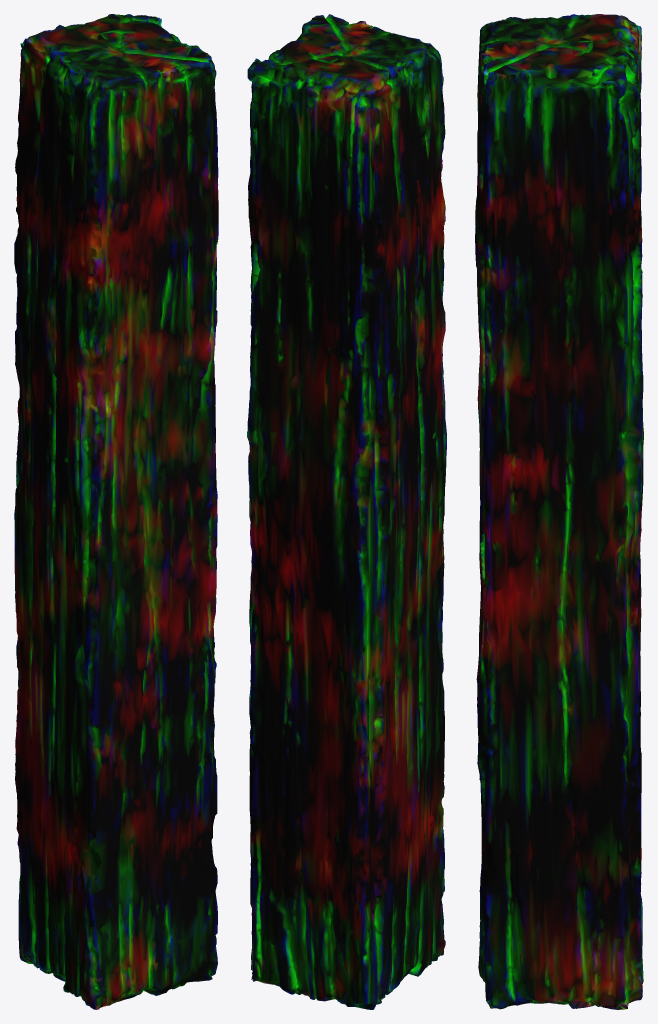
Rendered from SM_Wood_Pillar_01.fbx.
3 renders of one model, left to right at view 1: azimuth 30°, elevation 25°; view 2: azimuth 150°, elevation 25°; view 3: azimuth 270°, elevation 25°, orthographic. The views are drawn at different scales.
Parts seen in each view (by area): view 1: SM_Wood_Pillar_01_LOD0; view 2: SM_Wood_Pillar_01_LOD0; view 3: SM_Wood_Pillar_01_LOD0.
Boxes of the visible parts, x1,y1,x2,y2 form: SM_Wood_Pillar_01_LOD0: (14,14,218,1009); SM_Wood_Pillar_01_LOD0: (247,14,446,1009); SM_Wood_Pillar_01_LOD0: (475,14,643,1009).
Size of the model in its own units: 48.36 by 49.65 by 305.
